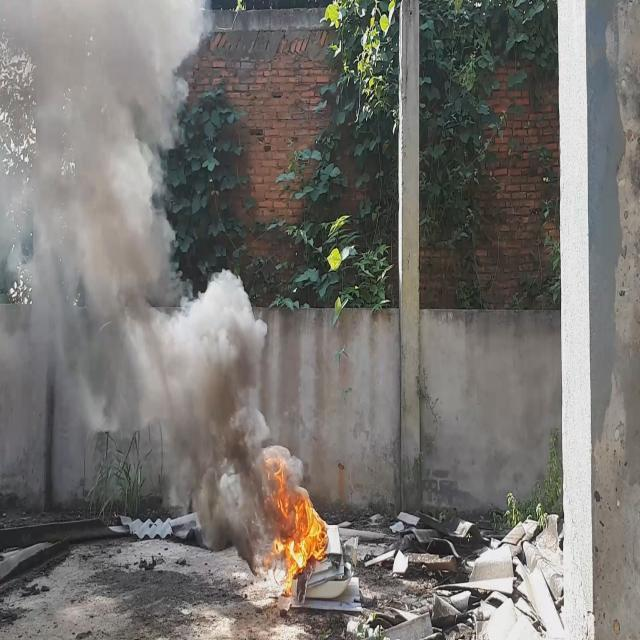Fire: (262, 451, 331, 596)
Smoke: (0, 0, 305, 577)
